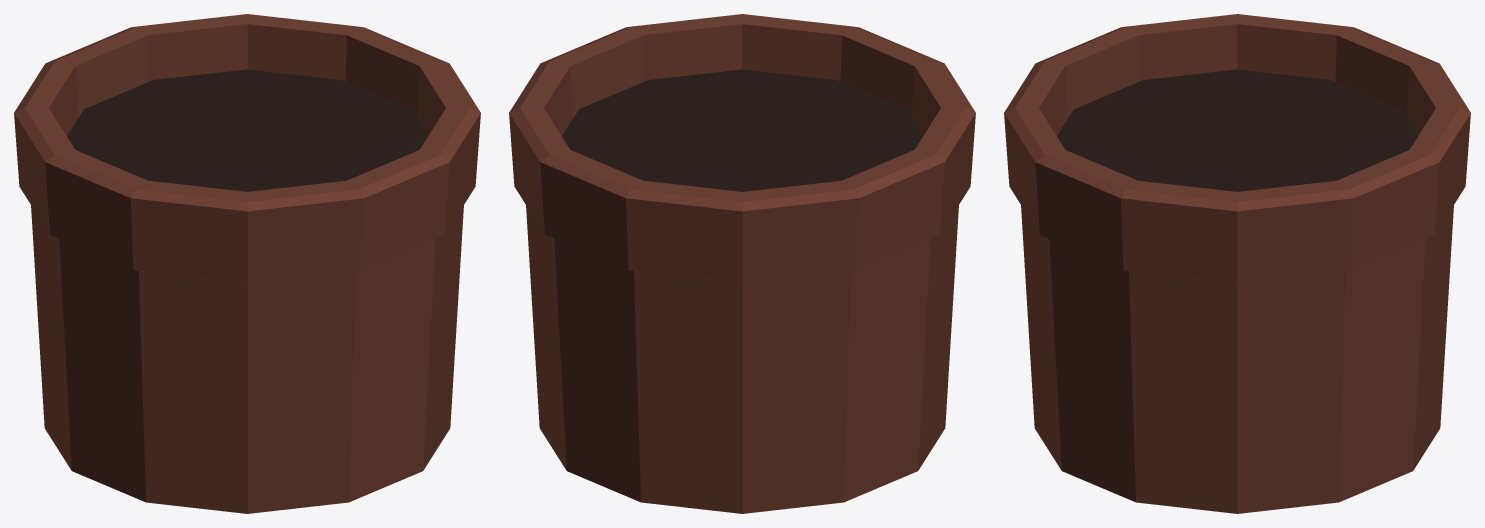
File: MBJ_PlantPack01_Pot01_LOD2_v001.fbx
3 renders of one model, left to right at view 1: azimuth 30°, elevation 25°; view 2: azimuth 150°, elevation 25°; view 3: azimuth 270°, elevation 25°, orthographic.
Visible parts, largest first — view 1: PlantPot01_B.001; view 2: PlantPot01_B.001; view 3: PlantPot01_B.001.
Part boxes in pixels (bbox=[...]): PlantPot01_B.001: bbox=[14, 14, 480, 513]; PlantPot01_B.001: bbox=[509, 14, 975, 513]; PlantPot01_B.001: bbox=[1004, 14, 1470, 513].
Size of the model in its own units: 61.21 by 46.32 by 61.21.
